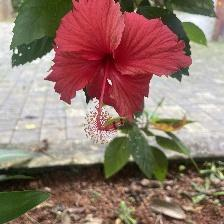hibiscus: (49, 1, 196, 145)
